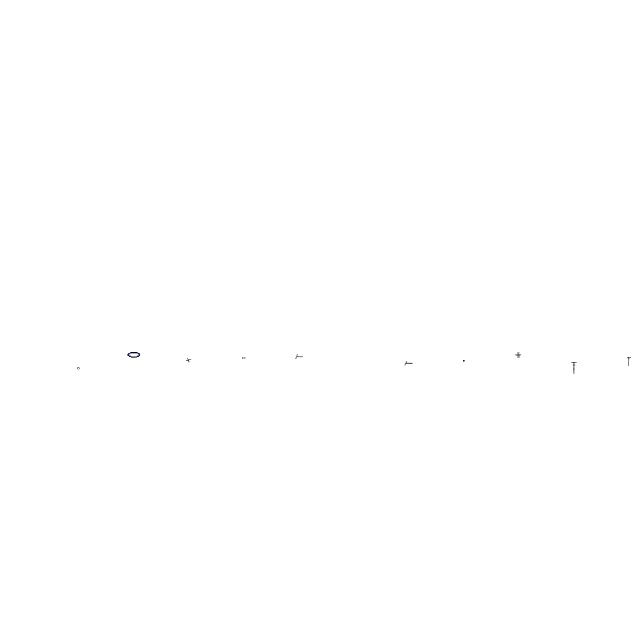chain: (126, 350, 142, 360), (242, 357, 246, 359), (78, 368, 80, 370), (463, 360, 465, 362)
double: (186, 357, 192, 363), (516, 352, 522, 358)
double treble: (571, 362, 577, 374), (627, 358, 631, 366)
enseble_chain: (295, 354, 303, 360), (404, 362, 414, 366)
